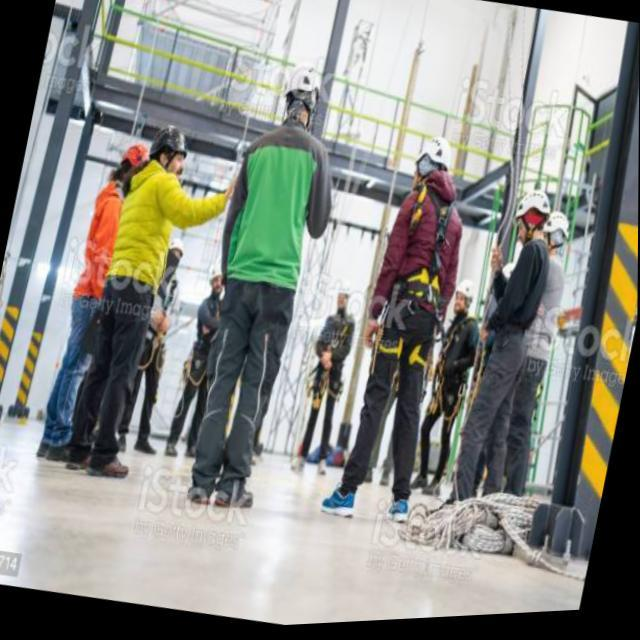belt: (362, 174, 470, 388), (422, 312, 484, 435), (138, 272, 190, 378), (304, 312, 360, 406), (184, 296, 233, 392)
